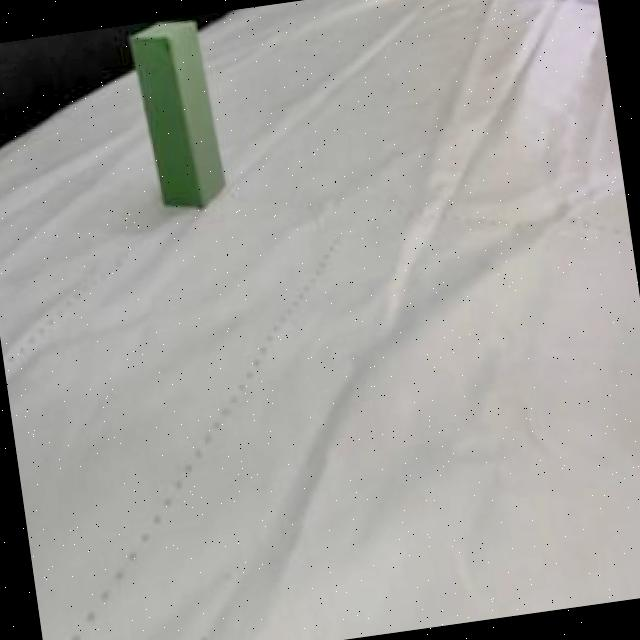greenbox: (128, 14, 227, 214)
